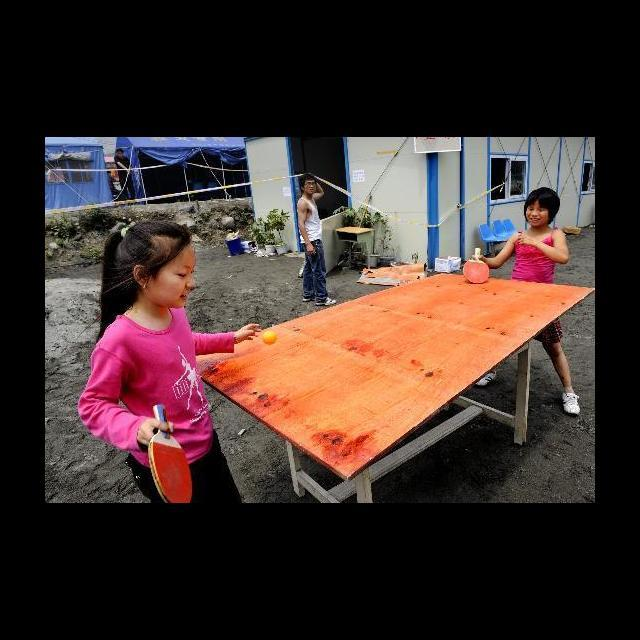ping-pong-ball: (262, 330, 278, 345)
